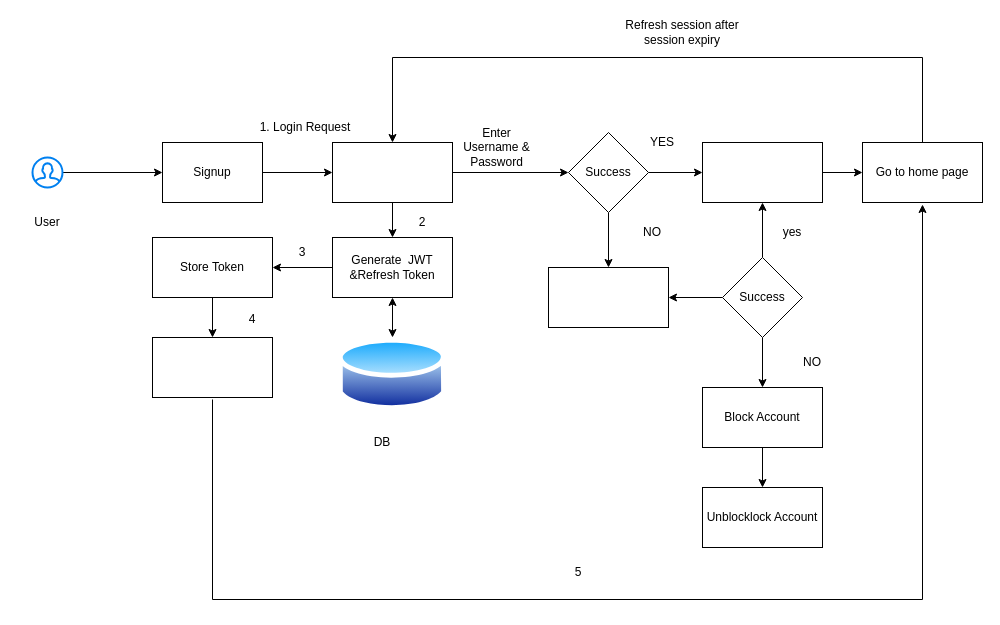
Image size: 1000x625. Some labels were removed from this diagram. Here are the shapes that lost their labels. From the top down, the box of each, then its label:
(332, 142, 452, 202): Login
(702, 142, 822, 202): LOGIN SUCCESSFUL
(548, 266, 668, 328): Reset Password
(152, 336, 272, 398): Start watching token expiry
